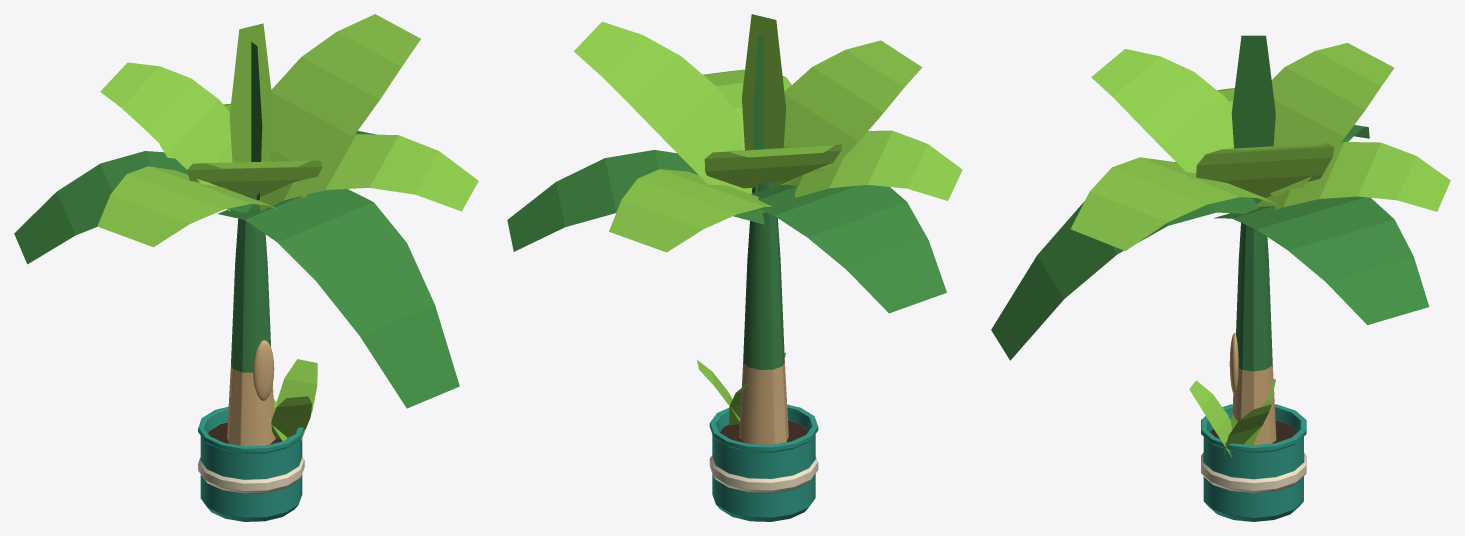
Rendered from prop_plant_tall.glb.
The picture shows the model from 3 angles, left to right: view 1: azimuth 30°, elevation 25°; view 2: azimuth 150°, elevation 25°; view 3: azimuth 270°, elevation 25°; orthographic projection.
Parts seen in each view (by area): view 1: prop_plant_tall; view 2: prop_plant_tall; view 3: prop_plant_tall.
Boxes of the visible parts, x1,y1,x2,y2 form: prop_plant_tall: (14,14,478,521); prop_plant_tall: (507,14,962,521); prop_plant_tall: (991,35,1450,521).
Bounding box in the file's own units: 2.71 × 3.1 × 2.68.
